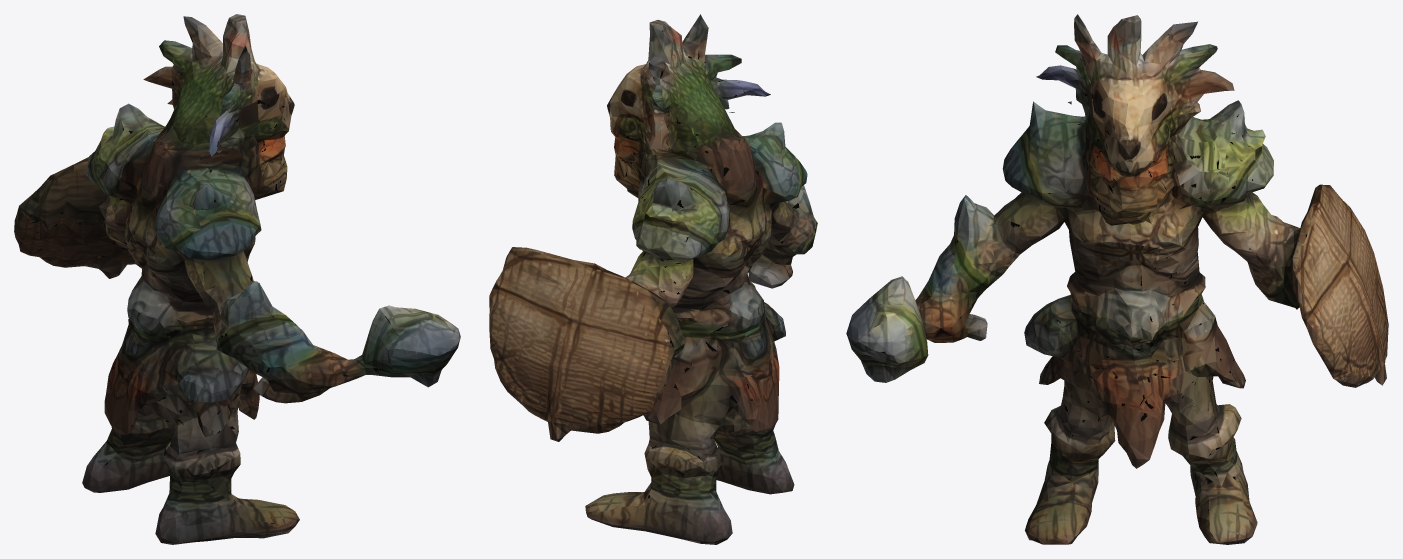
Rendered from minion_support_1.glb.
3 views of the same model, side by side, from view 1: azimuth 30°, elevation 25°; view 2: azimuth 150°, elevation 25°; view 3: azimuth 270°, elevation 25° (orthographic). The views are drawn at different scales.
Visible parts, largest first — view 1: test (23); view 2: test (23); view 3: test (23).
Part boxes in pixels (x1=…): test (23): x1=14, y1=14, x2=460, y2=544; test (23): x1=489, y1=14, x2=817, y2=544; test (23): x1=846, y1=14, x2=1388, y2=544.
Size of the model in its own units: 1.1 by 2.23 by 2.11.
Materials: 1 (1 with a texture image).
